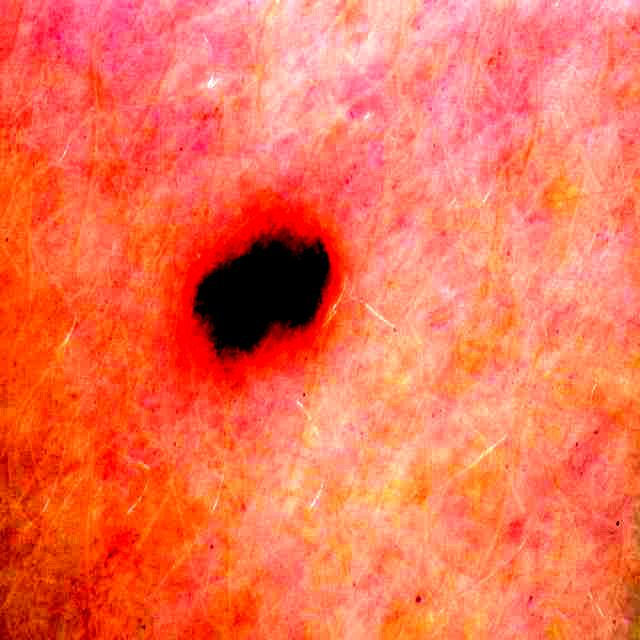BCC: (193, 226, 330, 353)
